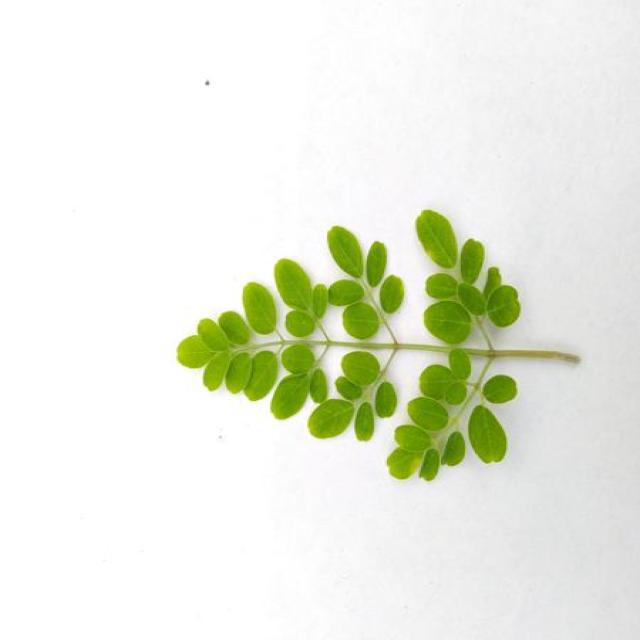drumstick: (177, 210, 580, 479)
